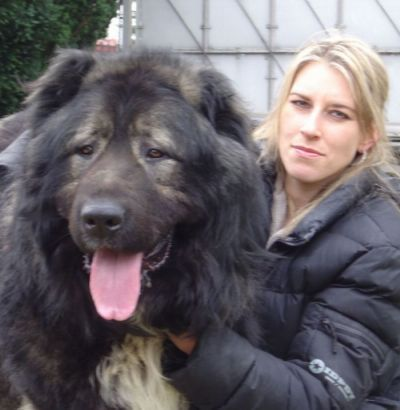cau_ovcharka: (0, 49, 270, 410)
human_face: (275, 68, 379, 182)
person: (169, 27, 400, 410)
